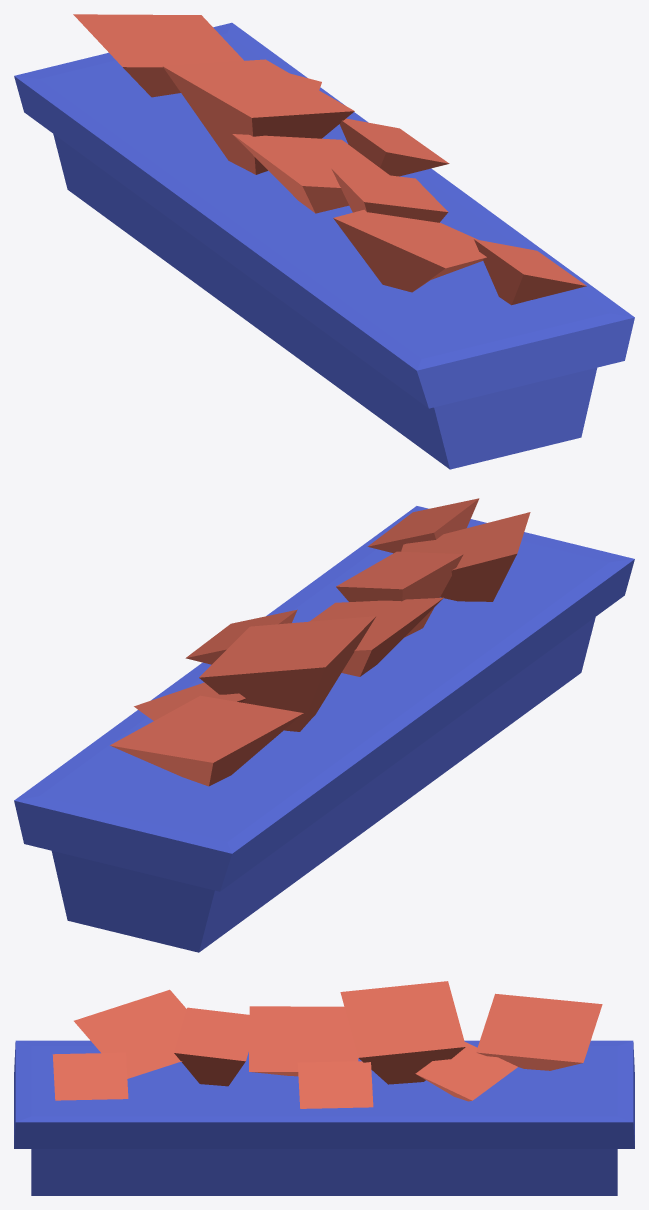
The model's file is PlantWall.fbx.
3 renders of one model, top to bottom at view 1: azimuth 30°, elevation 25°; view 2: azimuth 150°, elevation 25°; view 3: azimuth 270°, elevation 25°, orthographic. The views are drawn at different scales.
Visible parts, largest first — view 1: Plant_wall; view 2: Plant_wall; view 3: Plant_wall.
Part boxes in pixels (left/top/right/bottom): Plant_wall: left=14, top=14, right=634, bottom=469; Plant_wall: left=14, top=498, right=634, bottom=952; Plant_wall: left=14, top=981, right=634, bottom=1195.
Size of the model in its own units: 59.06 by 53.79 by 189.
